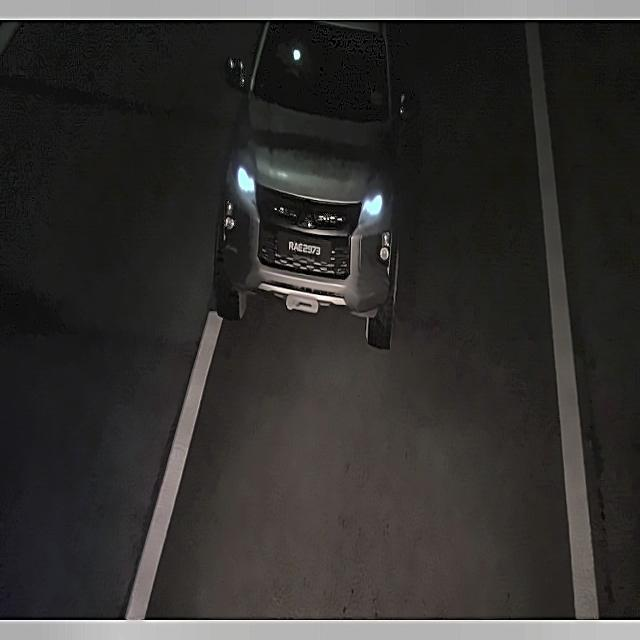car: (272, 225, 336, 268)
